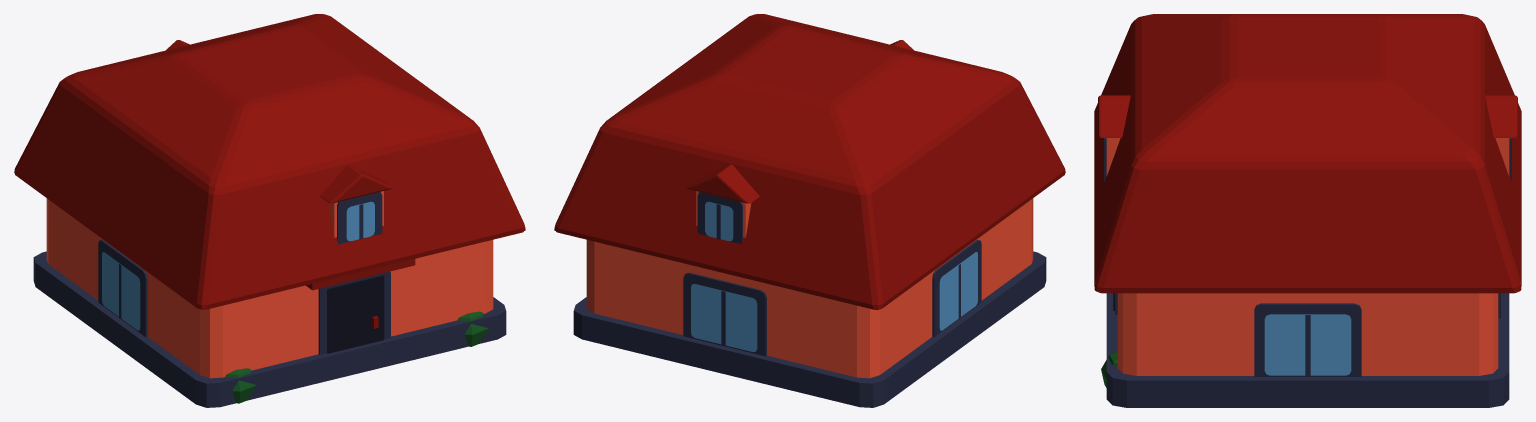
File: house-1x1-1f-mansard-c.glb
The picture shows the model from 3 angles, left to right: view 1: azimuth 30°, elevation 25°; view 2: azimuth 150°, elevation 25°; view 3: azimuth 270°, elevation 25°; orthographic projection. The views are drawn at different scales.
Visible parts, largest first — view 1: house-1x1-1f-mansard-c; view 2: house-1x1-1f-mansard-c; view 3: house-1x1-1f-mansard-c.
Boxes of the visible parts, <box> form: house-1x1-1f-mansard-c: <box>14,14,525,407</box>; house-1x1-1f-mansard-c: <box>554,14,1065,407</box>; house-1x1-1f-mansard-c: <box>1094,14,1521,407</box>.
Size of the model in its own units: 0.9876 by 0.7026 by 0.9876.
Materials: 1 (1 with a texture image).
